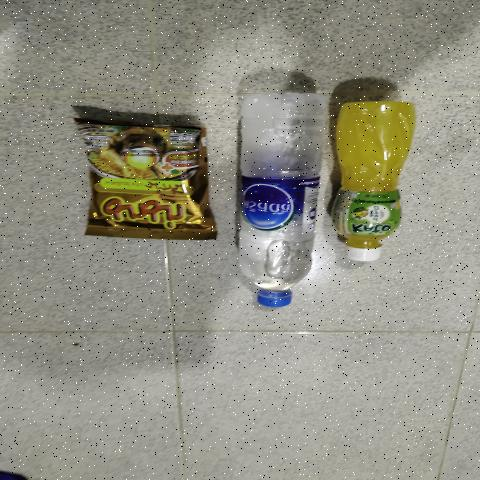crystal: (252, 91, 310, 284)
mama: (91, 130, 198, 232)
